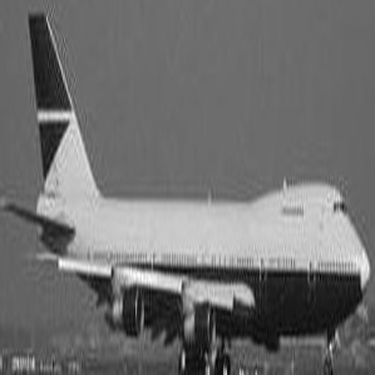airplane: (5, 1, 372, 371)
